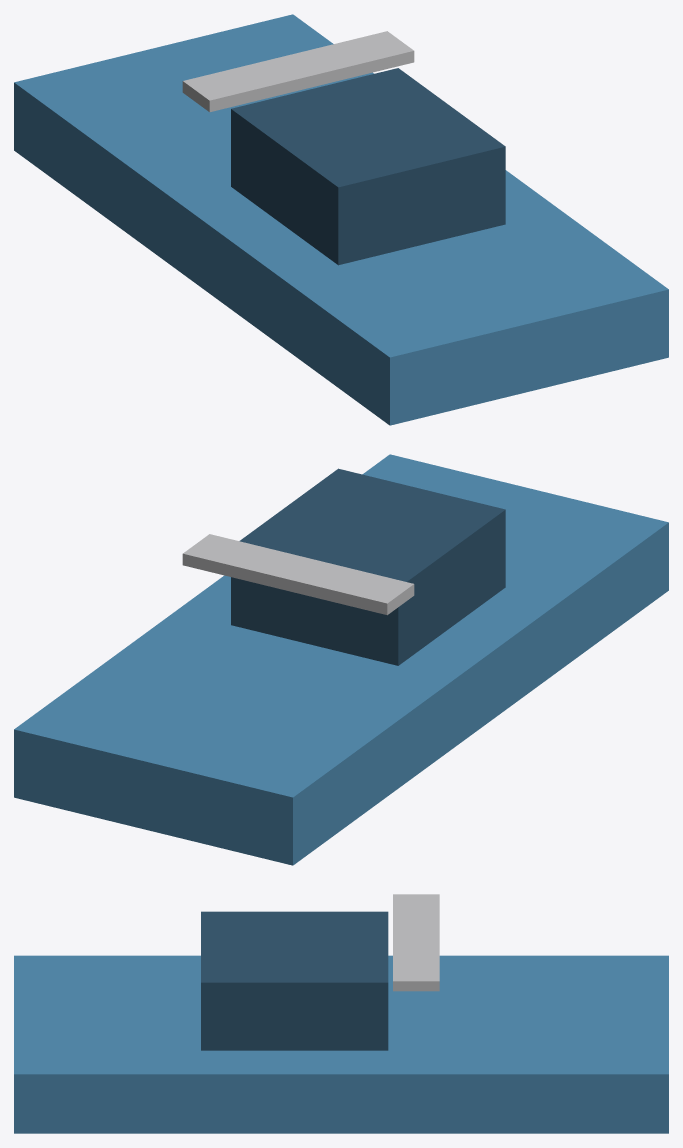
Rendered from boat.glb.
3 views of the same model, one above another, from view 1: azimuth 30°, elevation 25°; view 2: azimuth 150°, elevation 25°; view 3: azimuth 270°, elevation 25° (orthographic). The views are drawn at different scales.
Visible parts, largest first — view 1: p0, p1, p2; view 2: p0, p1, p2; view 3: p0, p1, p2.
Boxes of the visible parts, x1,y1,x2,y2 form: p0: [14, 14, 668, 425]; p1: [231, 68, 505, 265]; p2: [182, 31, 414, 112]; p0: [14, 454, 668, 865]; p1: [231, 468, 505, 665]; p2: [182, 534, 414, 615]; p0: [14, 955, 668, 1133]; p1: [201, 911, 388, 1050]; p2: [393, 894, 439, 991].
Size of the model in its own units: 3 by 1.61 by 7.
